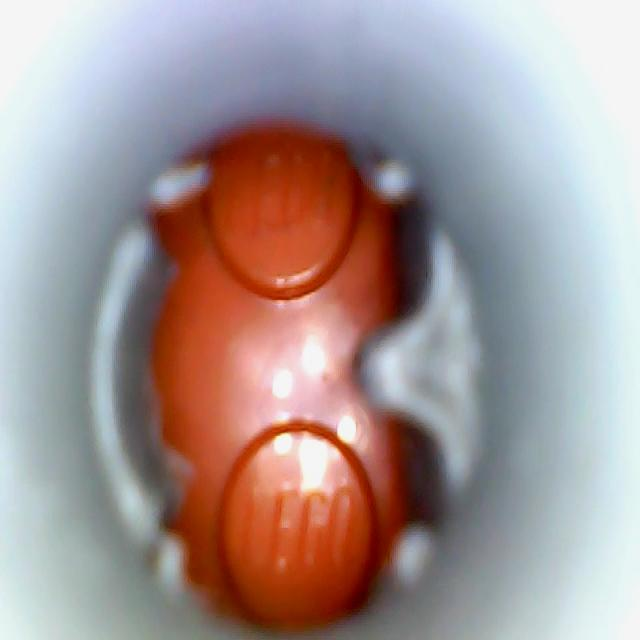studs: (220, 423, 375, 625), (204, 129, 361, 299)
